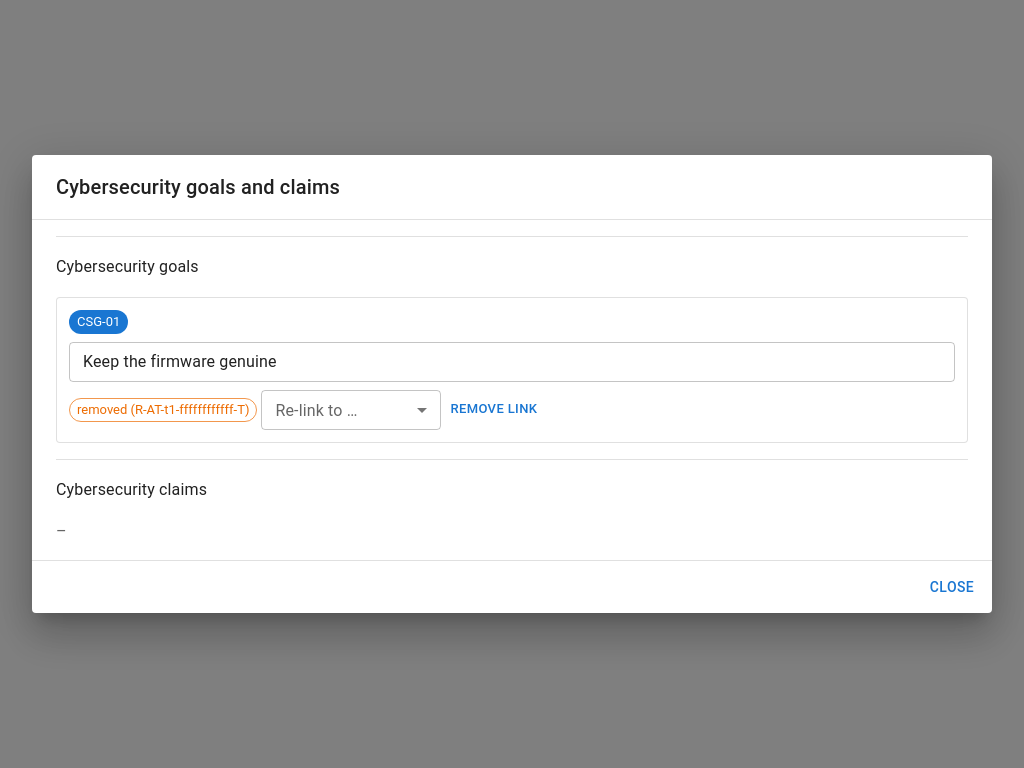
GoalsClaimsDialog — re-link a removed risk (FX-5) › re-links the dead link to the renamed path
Press the mouse on the dropdown named "Re-link to …" at (351, 410), box [261, 390, 441, 430]
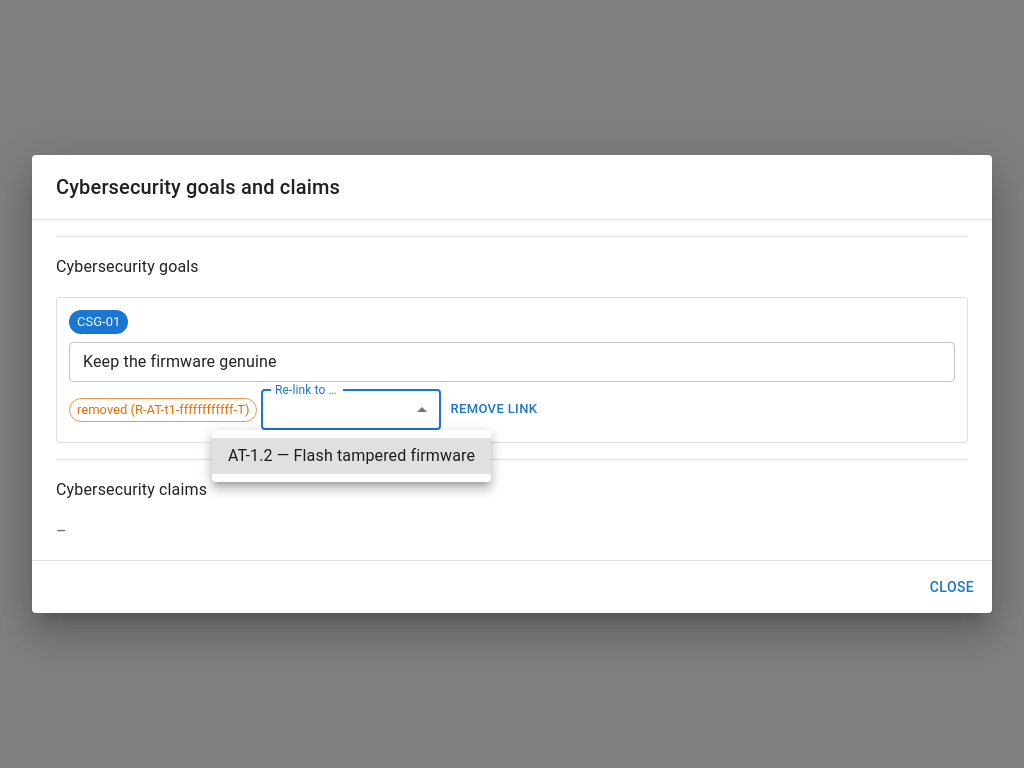
Click the option "AT-1.2 — Flash tampered firmware" at (352, 456), box [212, 438, 491, 474]
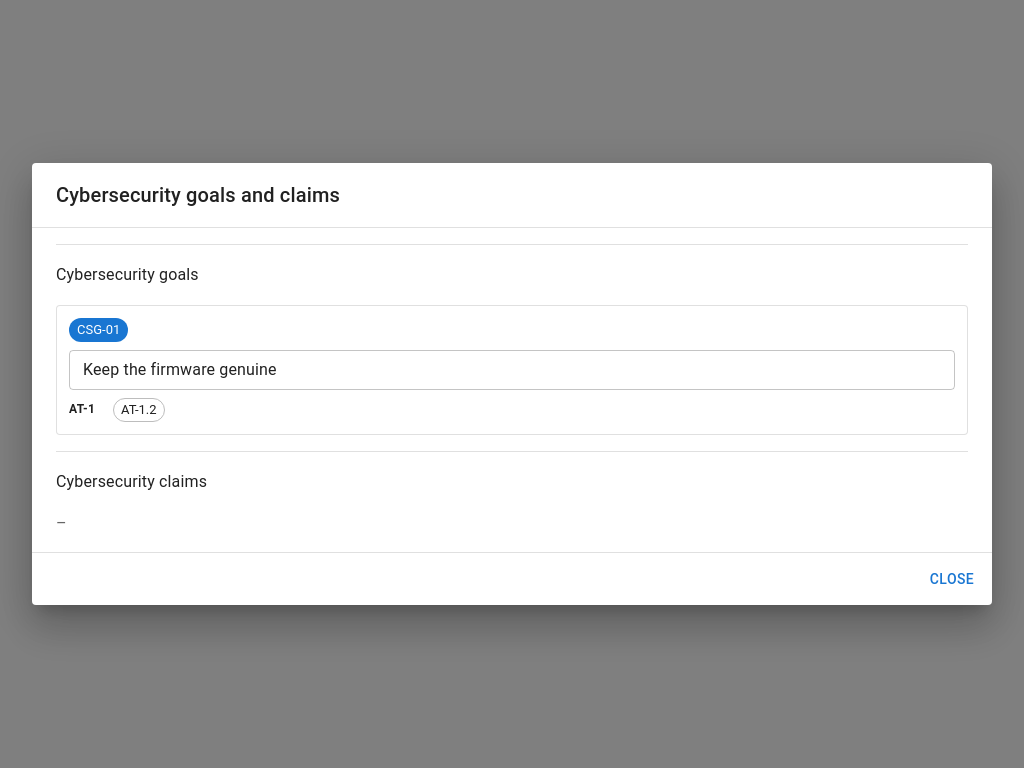
Expected: the element with test id "dead-link-CSG-01" is gone
Expected: the text "AT-1.2" is shown, [121, 402, 157, 417]
